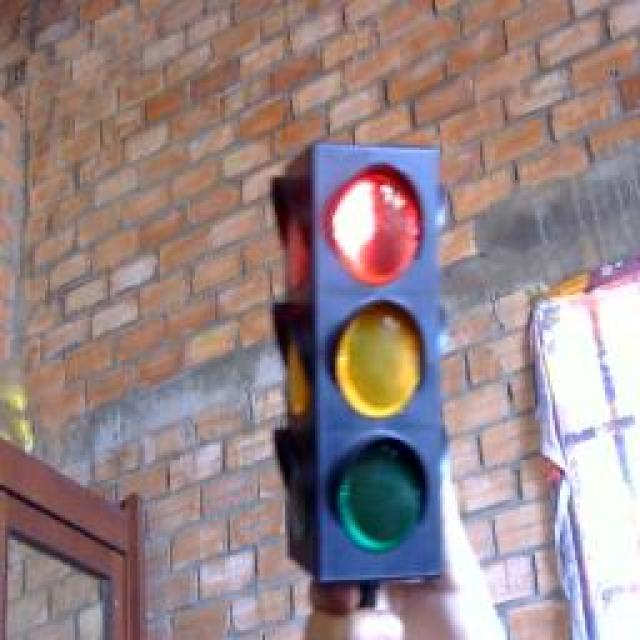-: (324, 150, 436, 297)
